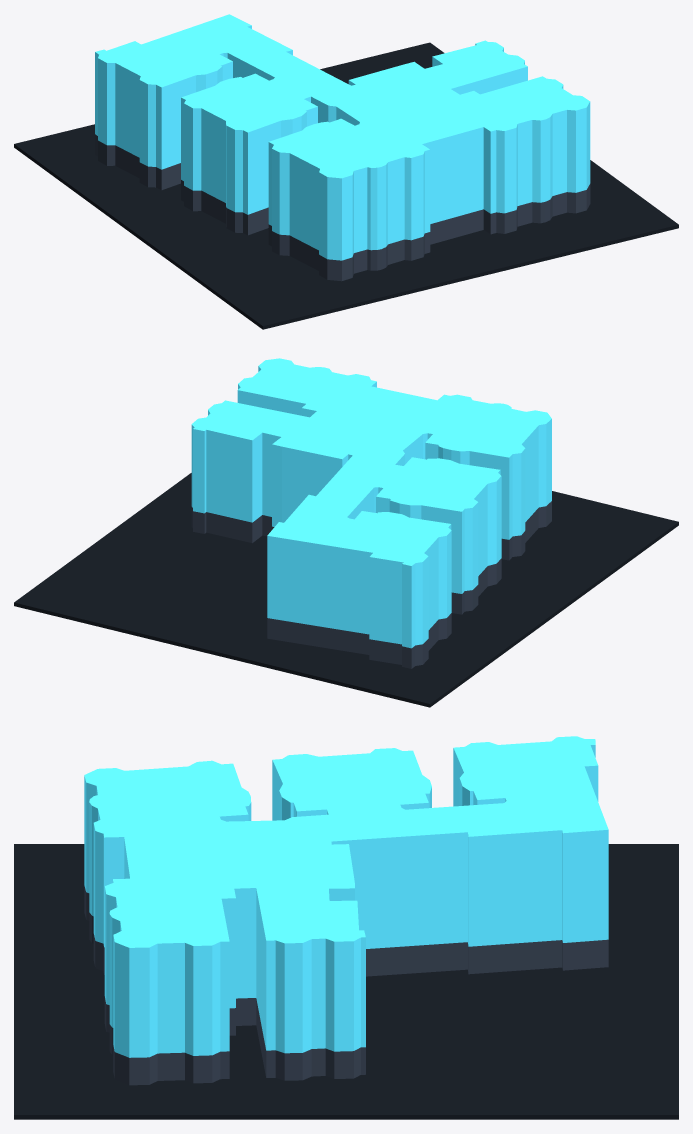
Rendered from sf-0874003-assembled.glb.
3 renders of one model, top to bottom at view 1: azimuth 30°, elevation 25°; view 2: azimuth 150°, elevation 25°; view 3: azimuth 270°, elevation 25°, orthographic. The views are drawn at different scales.
Visible parts, largest first — view 1: Floor 4, Ground, Floor 1, B1, Floor 3, Floor 2; view 2: Ground, Floor 4, Floor 3, Floor 2, Floor 1, B1; view 3: Ground, Floor 4, Floor 3, Floor 2, Floor 1, B1.
Part boxes in pixels (left/top/right/bottom): Floor 4: left=95, top=14, right=590, bottom=198; Ground: left=14, top=42, right=678, bottom=329; Floor 1: left=95, top=114, right=590, bottom=260; B1: left=95, top=134, right=590, bottom=281; Floor 3: left=95, top=72, right=590, bottom=219; Floor 2: left=95, top=93, right=590, bottom=239; Ground: left=14, top=473, right=678, bottom=707; Floor 4: left=191, top=358, right=551, bottom=586; Floor 3: left=191, top=439, right=551, bottom=607; Floor 2: left=191, top=460, right=551, bottom=627; Floor 1: left=191, top=480, right=551, bottom=648; B1: left=191, top=501, right=551, bottom=668; Ground: left=14, top=844, right=678, bottom=1119; Floor 4: left=84, top=736, right=608, bottom=975; Floor 3: left=84, top=775, right=608, bottom=1002; Floor 2: left=84, top=803, right=608, bottom=1030; Floor 1: left=84, top=858, right=608, bottom=1057; B1: left=84, top=886, right=608, bottom=1085.
Size of the model in its own units: 0.2434 by 0.0595 by 0.2522.
